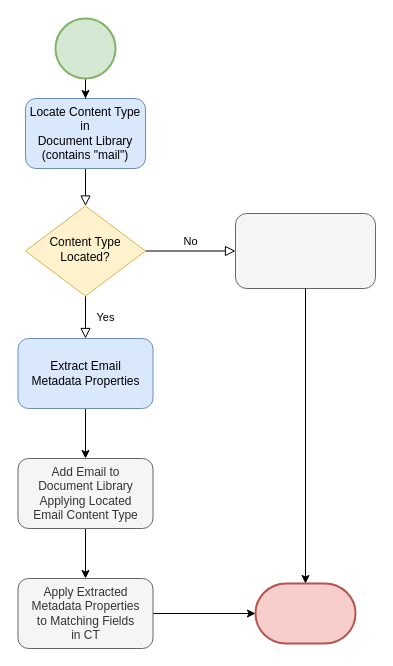
Some shapes in this 393 by 666 pixel diagram are drawn without their labels. The shapes that lost their labels are listed below. From the top down, each one's centre as x and y in pixels, then its label:
At point 85,48: "Start Email Parser".
At point 305,250: "Store Email in Document Library Using Default CT".
At point 305,613: "Exit Email Parser".
